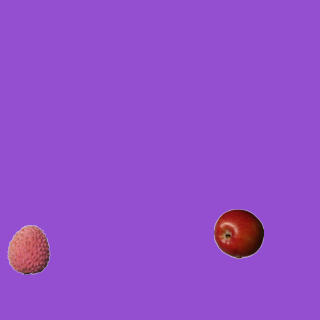Apple Braeburn: (213, 208, 263, 258)
Lychee: (3, 224, 53, 274)
